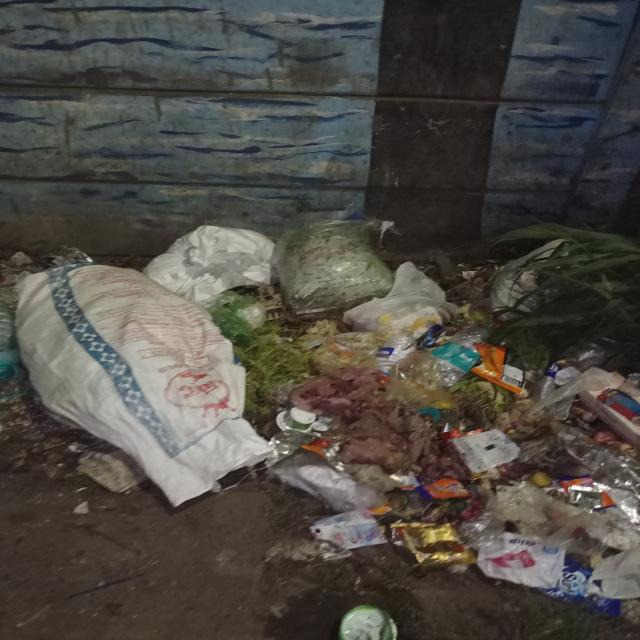garbage: (4, 228, 640, 616)
